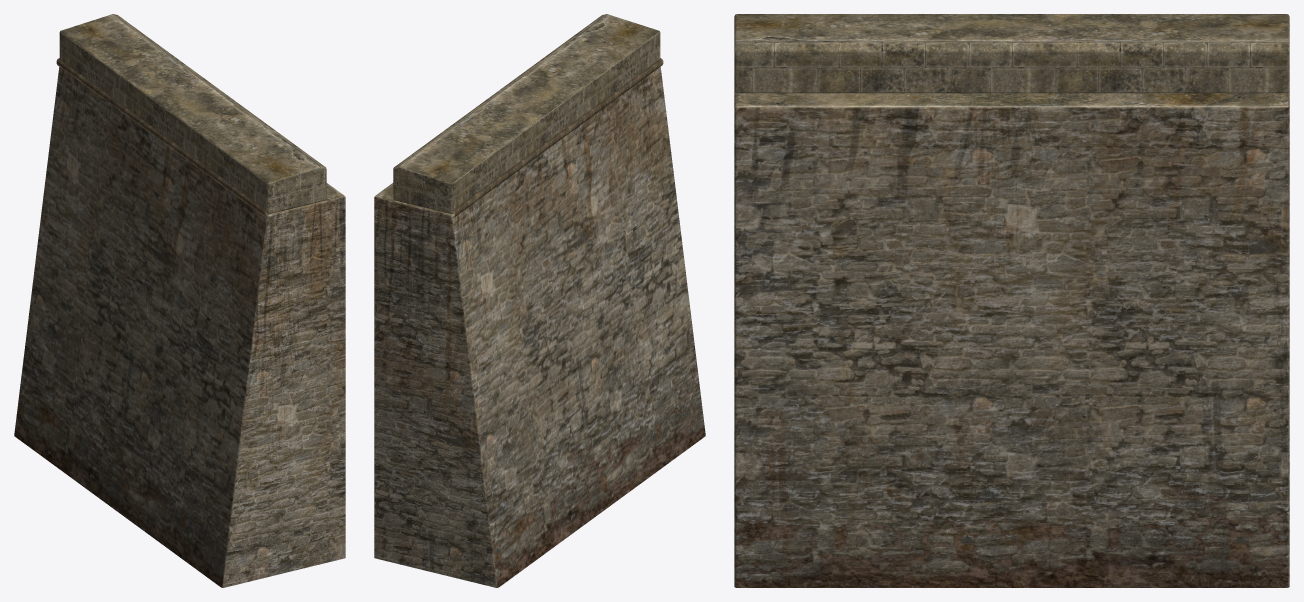
The model's file is endwall.gltf.
The picture shows the model from 3 angles, left to right: view 1: azimuth 30°, elevation 25°; view 2: azimuth 150°, elevation 25°; view 3: azimuth 270°, elevation 25°; orthographic projection. The views are drawn at different scales.
Parts seen in each view (by area): view 1: modular_fort_01_wall_thin_straight_03; view 2: modular_fort_01_wall_thin_straight_03; view 3: modular_fort_01_wall_thin_straight_03.
Part boxes in pixels (left/top/right/bottom): modular_fort_01_wall_thin_straight_03: left=14, top=14, right=345, bottom=587; modular_fort_01_wall_thin_straight_03: left=374, top=14, right=705, bottom=587; modular_fort_01_wall_thin_straight_03: left=734, top=14, right=1289, bottom=587.
Size of the model in its own units: 2.55 by 7.79 by 7.41.
Materials: 2 (2 with a texture image).
